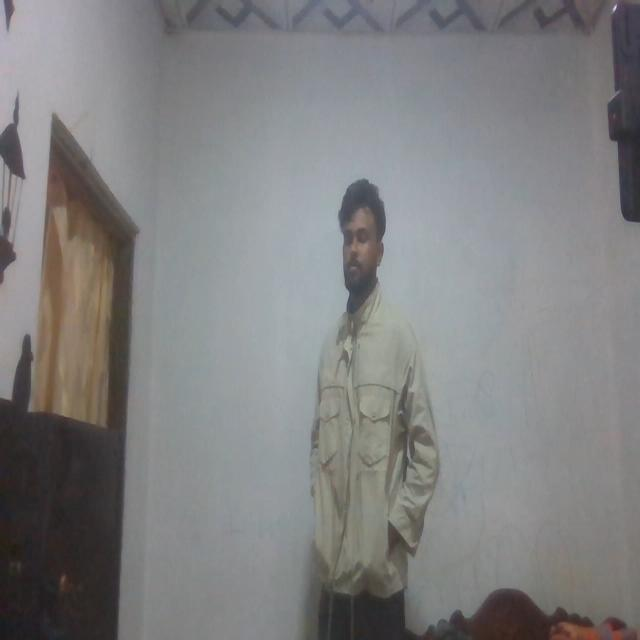Jacket_Wearer: (302, 282, 435, 588)
Person: (282, 185, 438, 640)
